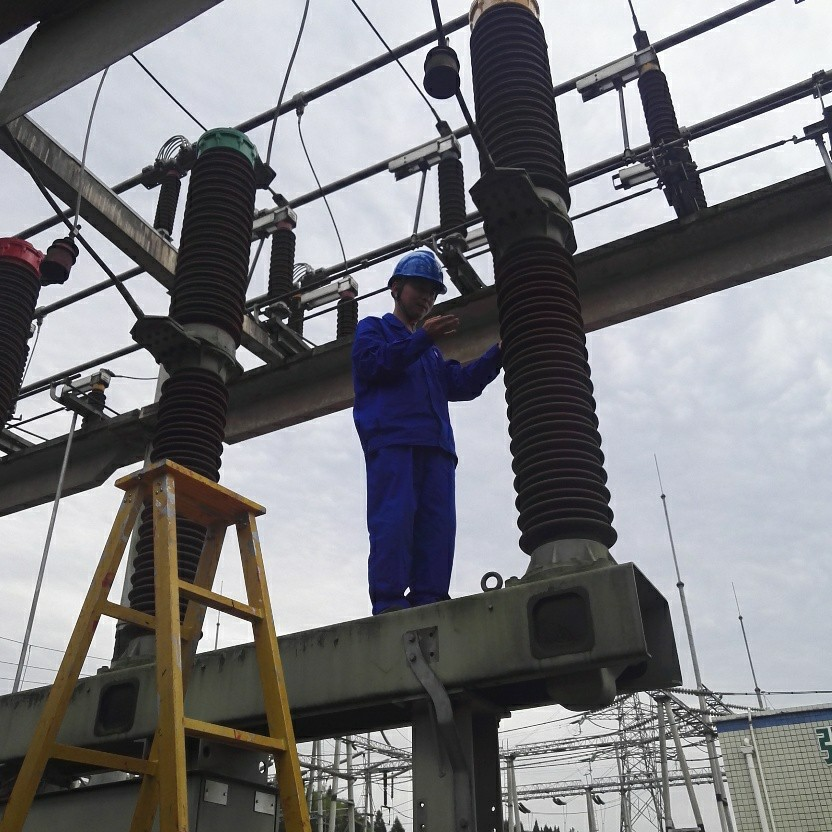hat: (385, 245, 449, 324)
